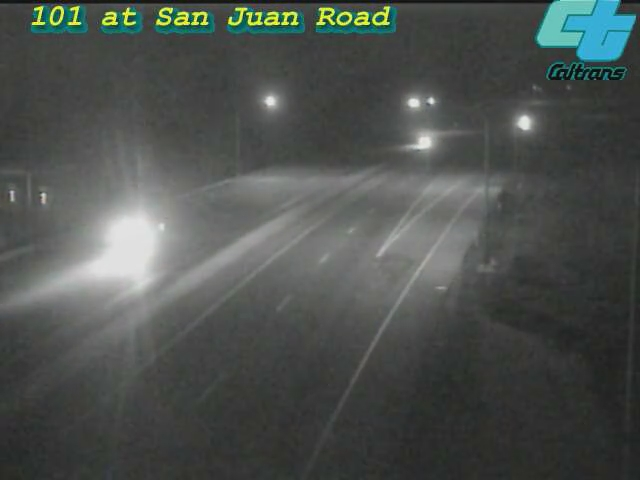vehicle: (91, 201, 171, 281), (398, 117, 448, 167), (497, 98, 547, 148)
